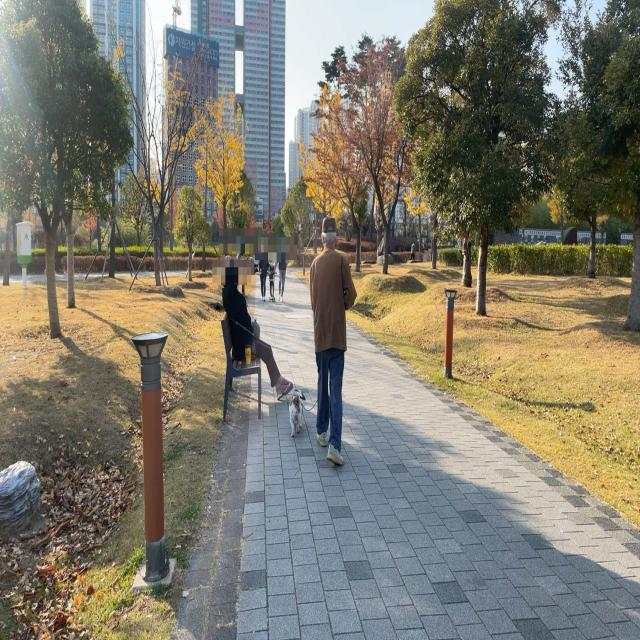Leashed_Dog: (288, 364, 328, 437)
